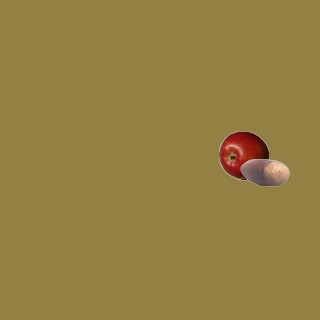Apple Braeburn: (218, 130, 268, 180)
Hazelnut: (239, 147, 289, 197)
